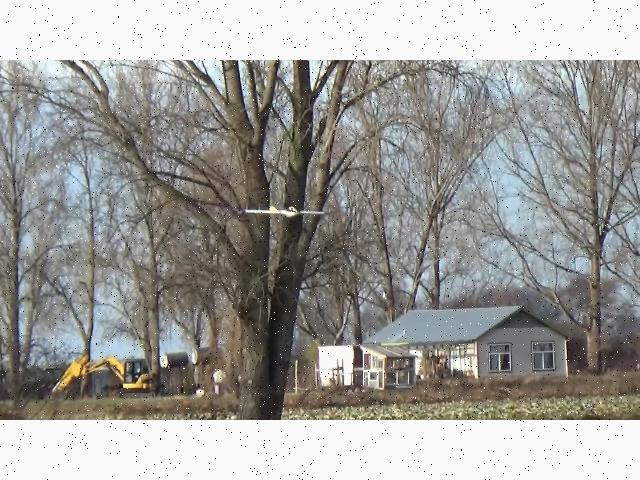Anti-Drone: (244, 208, 330, 218)
